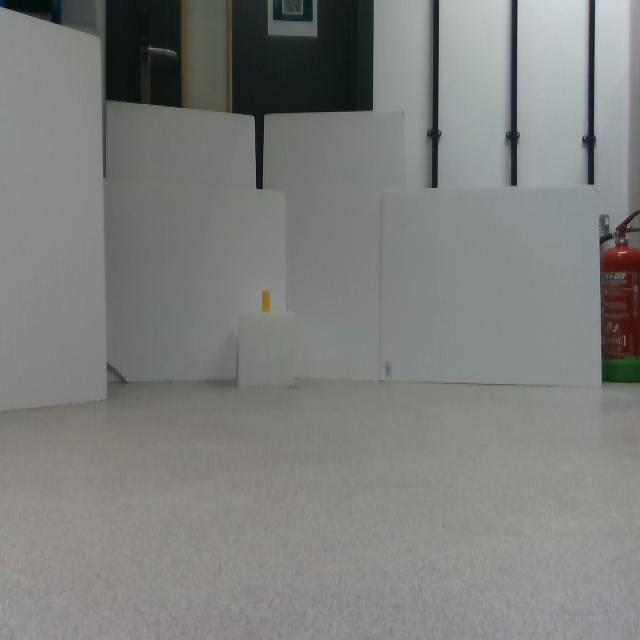yellow_cylinder: (262, 291, 271, 312)
